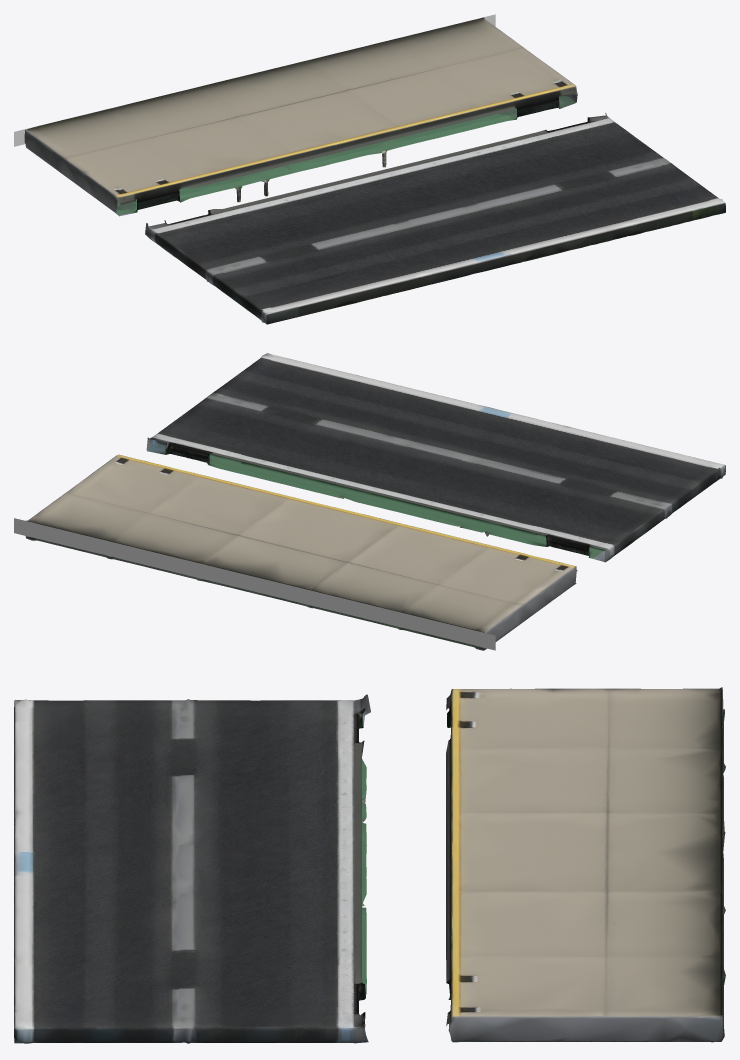
File: kaldırımparçarlari.fbx
The picture shows the model from 3 angles, top to bottom: view 1: azimuth 30°, elevation 25°; view 2: azimuth 150°, elevation 25°; view 3: azimuth 270°, elevation 25°; orthographic projection. The views are drawn at different scales.
Visible parts, largest first — view 1: Mesh_0, Mesh_0.001; view 2: Mesh_0, Mesh_0.001, Plane.001; view 3: Mesh_0, Mesh_0.001.
Part boxes in pixels (bbox=[...]): Mesh_0: bbox=[145, 113, 725, 324]; Mesh_0.001: bbox=[24, 17, 577, 216]; Mesh_0: bbox=[146, 353, 725, 562]; Mesh_0.001: bbox=[25, 454, 577, 650]; Plane.001: bbox=[14, 518, 495, 650]; Mesh_0: bbox=[14, 694, 370, 1043]; Mesh_0.001: bbox=[446, 687, 725, 1042].
Size of the model in its own units: 200 by 13.99 by 174.
1 material, 1 textured.
